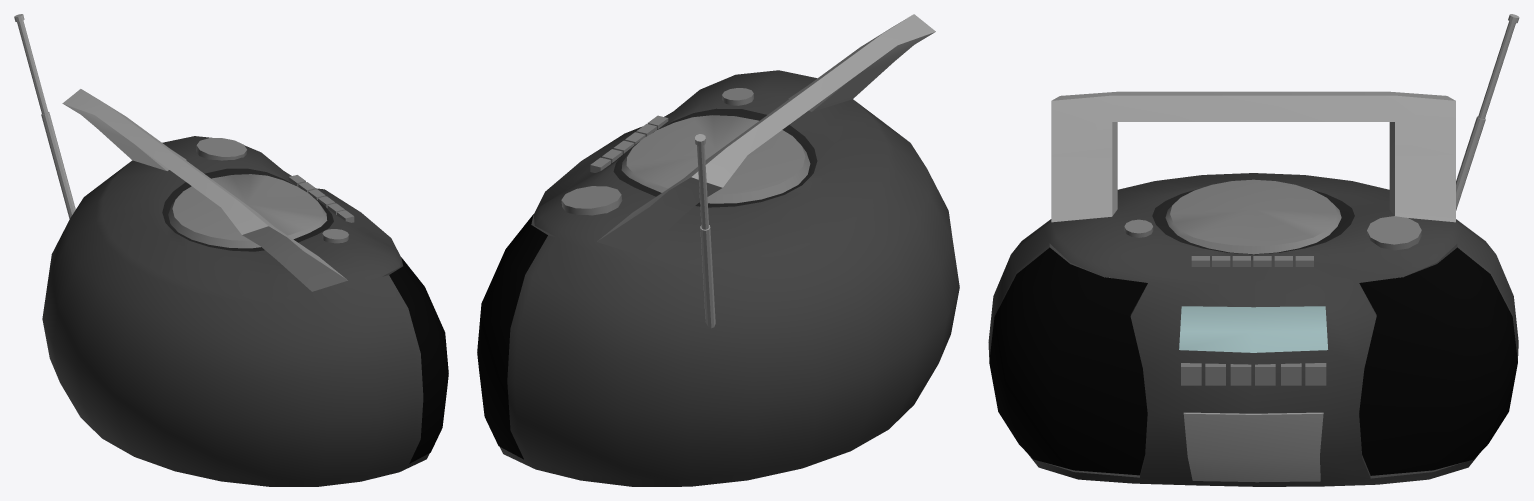
File: boombox.fbx
3 renders of one model, left to right at view 1: azimuth 30°, elevation 25°; view 2: azimuth 150°, elevation 25°; view 3: azimuth 270°, elevation 25°, orthographic. The views are drawn at different scales.
Parts seen in each view (by area): view 1: boombox; view 2: boombox; view 3: boombox.
Boxes of the visible parts, x1=… form: boombox: x1=14, y1=14, x2=448, y2=486; boombox: x1=477, y1=14, x2=959, y2=486; boombox: x1=988, y1=14, x2=1519, y2=486.
Size of the model in its own units: 210 by 217 by 294.
